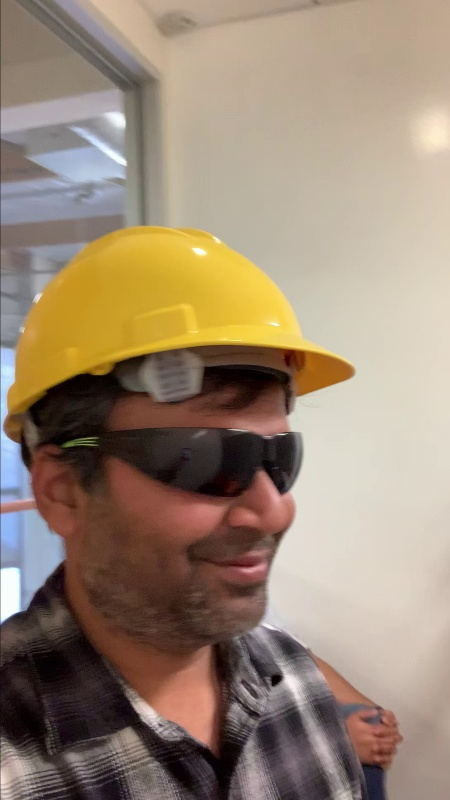glasses: (112, 418, 314, 504)
helmet: (1, 220, 363, 416)
